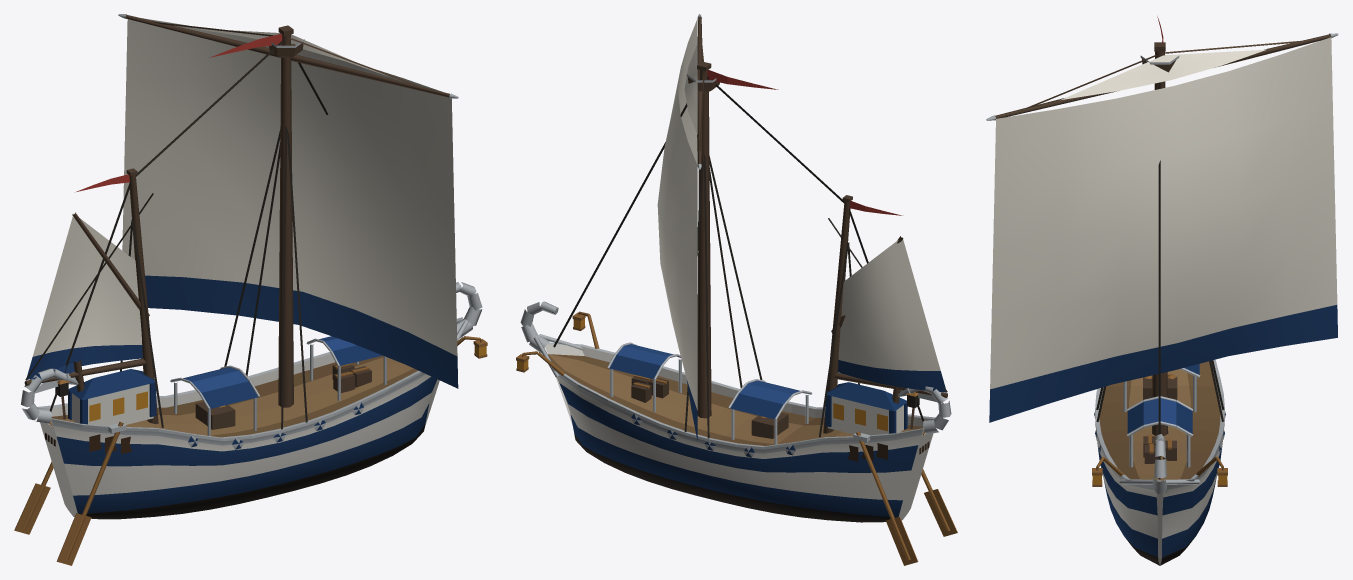
File: titan_pyusd.glb
The picture shows the model from 3 angles, left to right: view 1: azimuth 30°, elevation 25°; view 2: azimuth 150°, elevation 25°; view 3: azimuth 270°, elevation 25°; orthographic projection. The views are drawn at different scales.
Visible parts, largest first — view 1: sail_main, hull, deck, sail_spanker, mast, rigging, yards, stern_windows, flag, boom_spar, sail_extra, gaff; view 2: hull, deck, sail_spanker, sail_main, mast, rigging, stern_windows, flag, yards, sail_extra; view 3: sail_main, hull, deck, sail_extra, yards, rigging, mast.
Part boxes in pixels (x1=…): sail_main: x1=122, y1=18, x2=458, y2=388; hull: x1=21, y1=282, x2=482, y2=519; deck: x1=14, y1=336, x2=487, y2=565; sail_spanker: x1=26, y1=213, x2=142, y2=379; mast: x1=73, y1=25, x2=304, y2=424; rigging: x1=49, y1=41, x2=328, y2=429; yards: x1=118, y1=14, x2=458, y2=98; stern_windows: x1=45, y1=345, x2=486, y2=454; flag: x1=31, y1=34, x2=282, y2=393; boom_spar: x1=24, y1=193, x2=153, y2=385; sail_extra: x1=190, y1=28, x2=386, y2=75; gaff: x1=72, y1=212, x2=149, y2=316; hull: x1=520, y1=301, x2=951, y2=522; deck: x1=516, y1=311, x2=957, y2=565; sail_spanker: x1=838, y1=237, x2=946, y2=392; sail_main: x1=657, y1=18, x2=697, y2=440; mast: x1=686, y1=61, x2=900, y2=433; rigging: x1=553, y1=76, x2=924, y2=438; stern_windows: x1=517, y1=318, x2=929, y2=461; flag: x1=707, y1=70, x2=943, y2=403; yards: x1=697, y1=14, x2=704, y2=169; sail_extra: x1=684, y1=44, x2=697, y2=134; sail_main: x1=989, y1=37, x2=1337, y2=422; hull: x1=1094, y1=359, x2=1225, y2=565; deck: x1=1092, y1=364, x2=1227, y2=486; sail_extra: x1=1060, y1=49, x2=1266, y2=100; yards: x1=986, y1=33, x2=1338, y2=120; rigging: x1=1096, y1=82, x2=1224, y2=479; mast: x1=1140, y1=42, x2=1179, y2=435.
Bounding box in the file's own units: 23.25 × 22.41 × 14.89.
